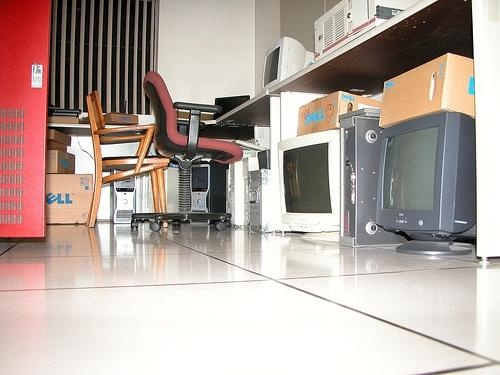chair: (131, 71, 246, 232), (82, 92, 169, 229)
tvmonitor: (377, 112, 477, 254), (276, 130, 345, 241), (263, 36, 316, 92)
